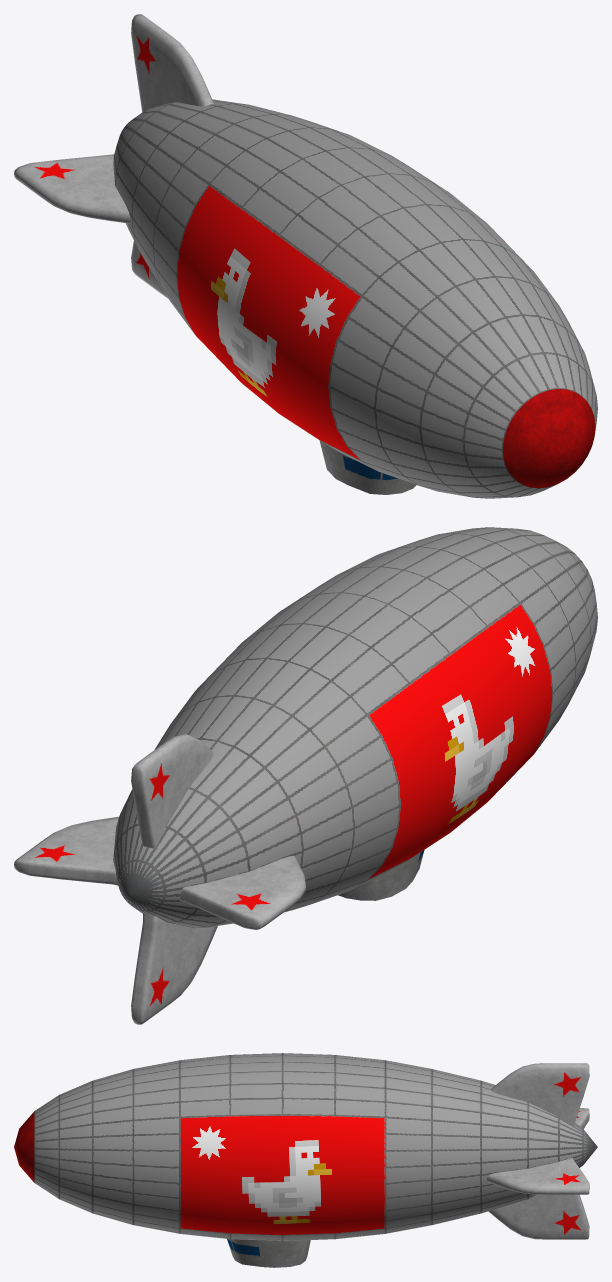
File: blimp.obj
3 renders of one model, top to bottom at view 1: azimuth 30°, elevation 25°; view 2: azimuth 150°, elevation 25°; view 3: azimuth 270°, elevation 25°, orthographic. The views are drawn at different scales.
Parts seen in each view (by area): view 1: Sphere_Sphere.008, Cube.003_Cube.005, Cylinder; view 2: Sphere_Sphere.008, Cube.003_Cube.005, Cylinder; view 3: Sphere_Sphere.008, Cube.003_Cube.005, Cylinder.
Boxes of the visible parts, x1,y1,x2,y2 form: Sphere_Sphere.008: [113, 99, 597, 498]; Cube.003_Cube.005: [14, 14, 213, 298]; Cylinder: [319, 440, 416, 494]; Sphere_Sphere.008: [113, 527, 597, 928]; Cube.003_Cube.005: [14, 734, 305, 1024]; Cylinder: [338, 850, 424, 900]; Sphere_Sphere.008: [14, 1053, 597, 1240]; Cube.003_Cube.005: [487, 1063, 589, 1239]; Cylinder: [227, 1239, 310, 1267].
Bounding box in the file's own units: 43.14 × 47.92 × 130.
